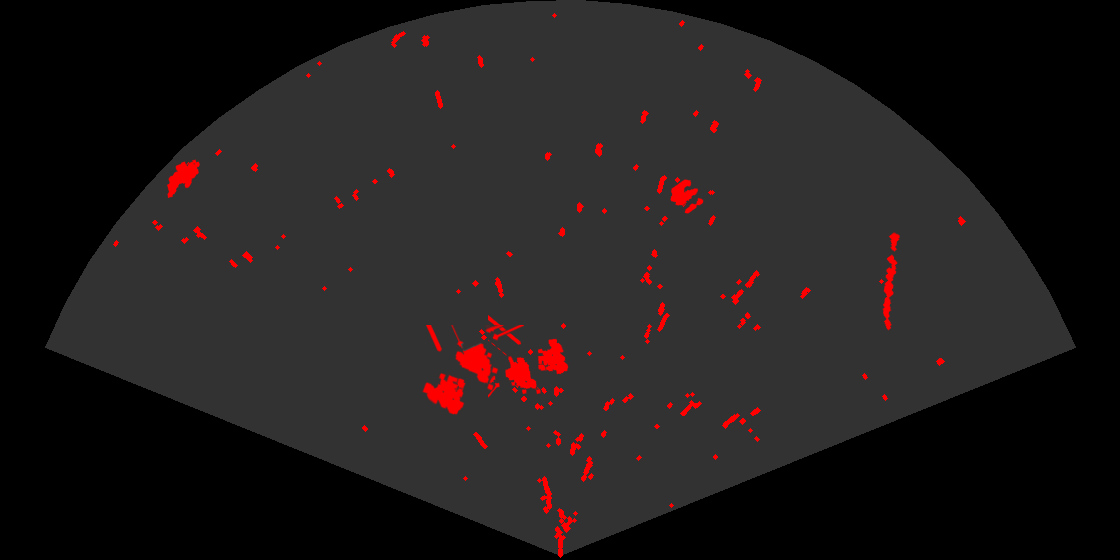AUV: (165, 158, 202, 200)
ball: (669, 178, 705, 215)
cage: (420, 325, 524, 416), (488, 315, 570, 399)
chain: (881, 230, 901, 332)
